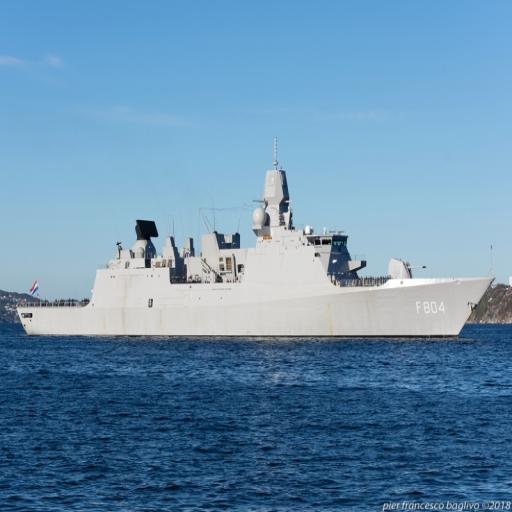Fragata: (10, 136, 500, 341)
